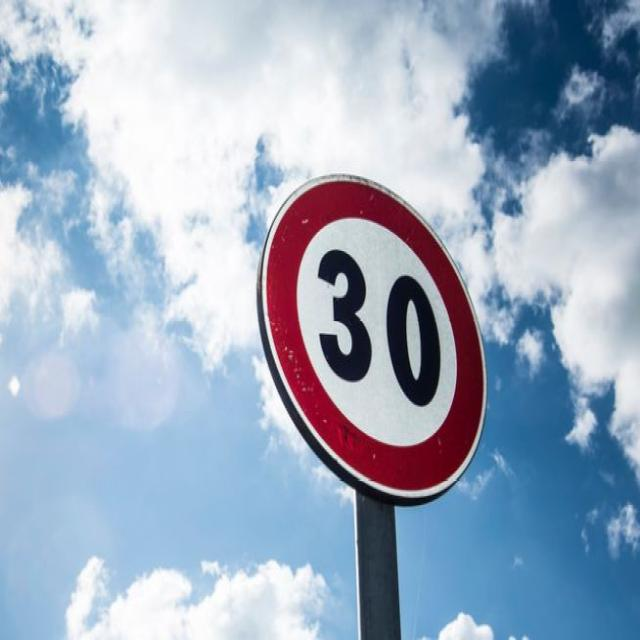speed limit 30: (259, 173, 487, 502)
